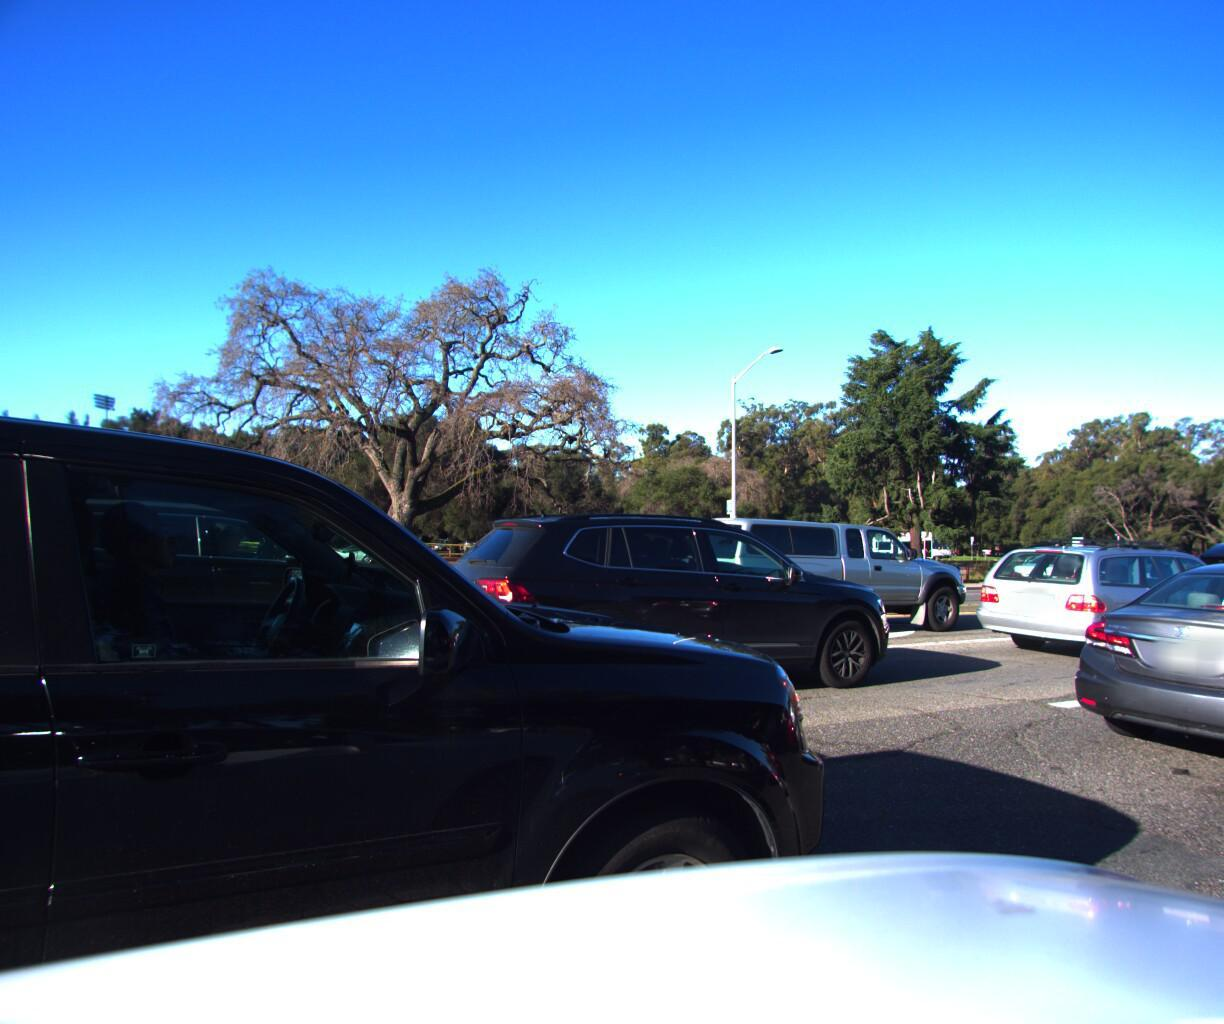car: (0, 0, 880, 1024), (425, 490, 899, 718), (0, 475, 451, 684), (1053, 549, 1224, 812), (686, 513, 979, 642), (968, 536, 1224, 667), (1164, 531, 1224, 611), (1009, 540, 1112, 586), (1221, 531, 1224, 645)
